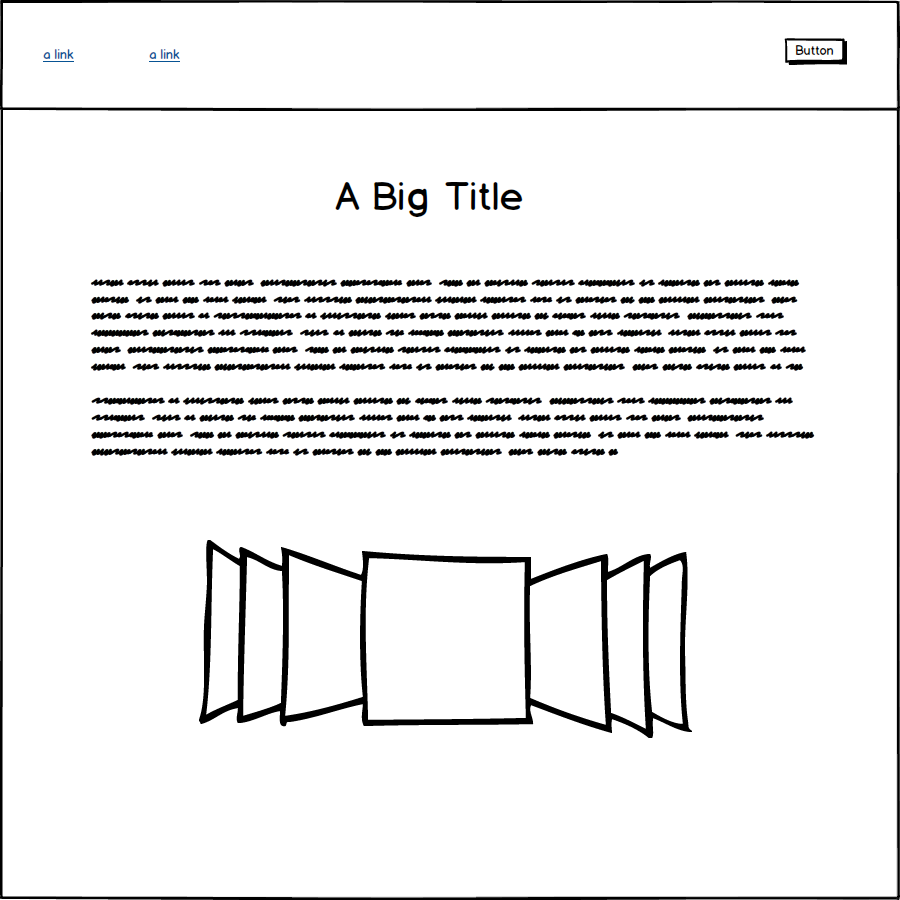button: (781, 33, 852, 69)
h1: (333, 162, 530, 222)
navlink: (33, 43, 92, 71), (142, 44, 190, 69)
p: (81, 267, 824, 463)
slideshow: (190, 534, 711, 744)
